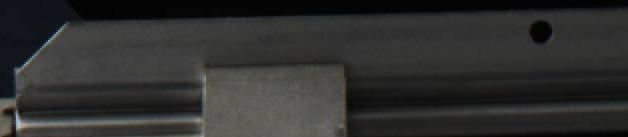cut: (12, 13, 171, 137)
holes: (526, 18, 554, 43)
